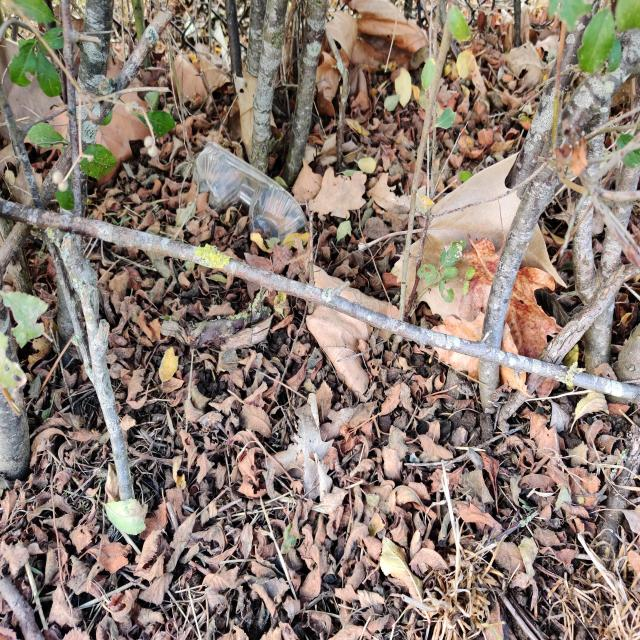litter: (183, 137, 311, 260)
